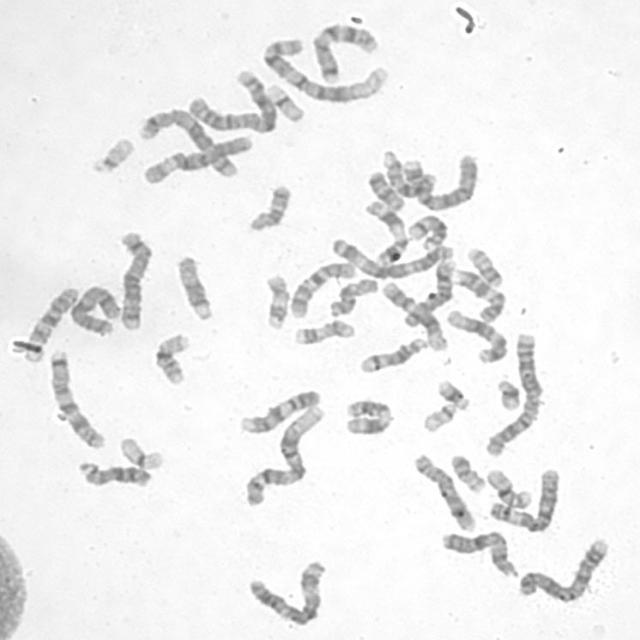A1: (238, 397, 327, 508), (258, 32, 391, 104)
A2: (480, 328, 544, 458), (182, 66, 278, 134)
A3: (242, 554, 328, 628), (325, 232, 454, 280)
B4: (512, 533, 612, 603), (400, 148, 480, 212)
B5: (133, 103, 241, 179), (112, 225, 154, 332)
C10: (17, 282, 80, 363), (285, 257, 357, 319)
C11: (360, 195, 410, 266), (340, 394, 394, 437)
C12: (376, 276, 449, 352), (442, 305, 509, 365)
C6: (136, 130, 255, 186), (485, 464, 562, 534)
C7: (43, 345, 107, 450), (307, 19, 381, 83)
C8: (408, 448, 478, 534), (399, 254, 457, 328)
C9: (234, 385, 322, 435), (449, 263, 508, 324)
D13: (380, 148, 438, 198), (73, 456, 153, 490)
D14: (354, 332, 430, 375), (403, 210, 450, 250)
D15: (172, 250, 216, 322), (323, 274, 380, 318)
E16: (148, 328, 192, 387), (482, 464, 534, 511)
E17: (289, 315, 357, 347), (259, 270, 291, 332)
E18: (244, 180, 292, 233), (362, 167, 407, 212)
F19: (114, 431, 166, 472), (263, 78, 307, 123)
F20: (462, 242, 506, 288), (446, 450, 486, 494)
G21: (432, 374, 473, 412), (492, 374, 522, 412)
G22: (85, 132, 135, 175), (417, 398, 460, 433)
X: (436, 526, 519, 580), (65, 280, 123, 337)
